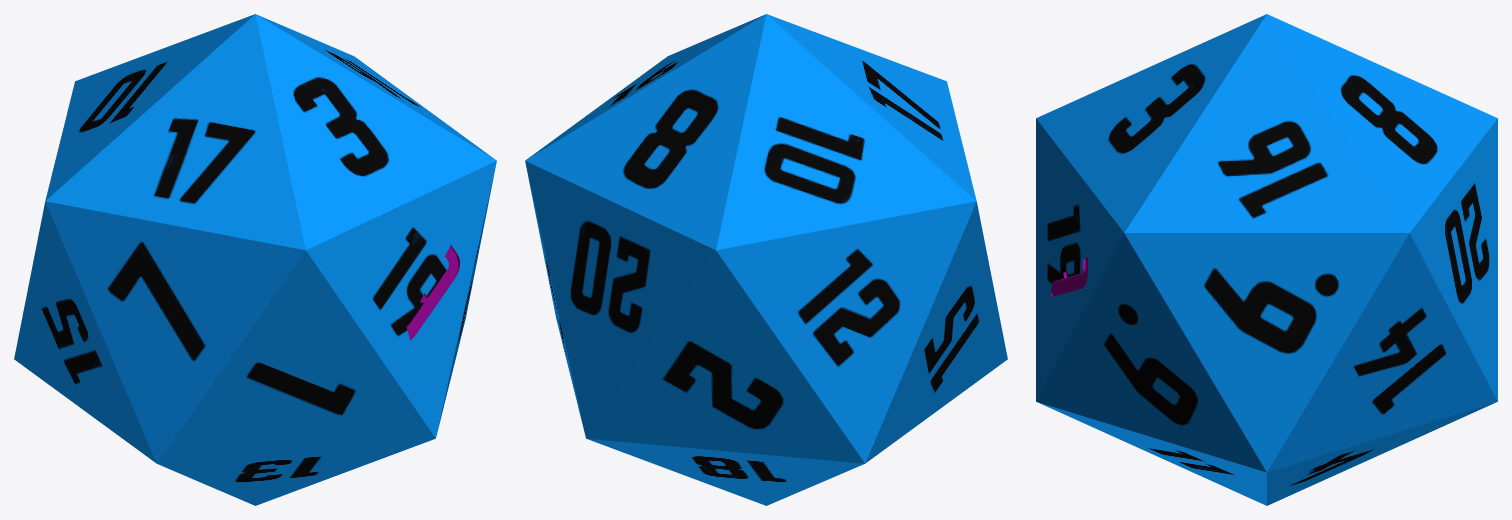
3 views of the same model, side by side, from view 1: azimuth 30°, elevation 25°; view 2: azimuth 150°, elevation 25°; view 3: azimuth 270°, elevation 25° (orthographic).
Parts seen in each view (by area): view 1: Dice_d20; view 2: Dice_d20; view 3: Dice_d20.
Boxes of the visible parts, bbox=[...] form: Dice_d20: bbox=[14, 14, 496, 505]; Dice_d20: bbox=[525, 14, 1007, 505]; Dice_d20: bbox=[1036, 14, 1497, 505].
Size of the model in its own units: 170 by 190 by 162.
